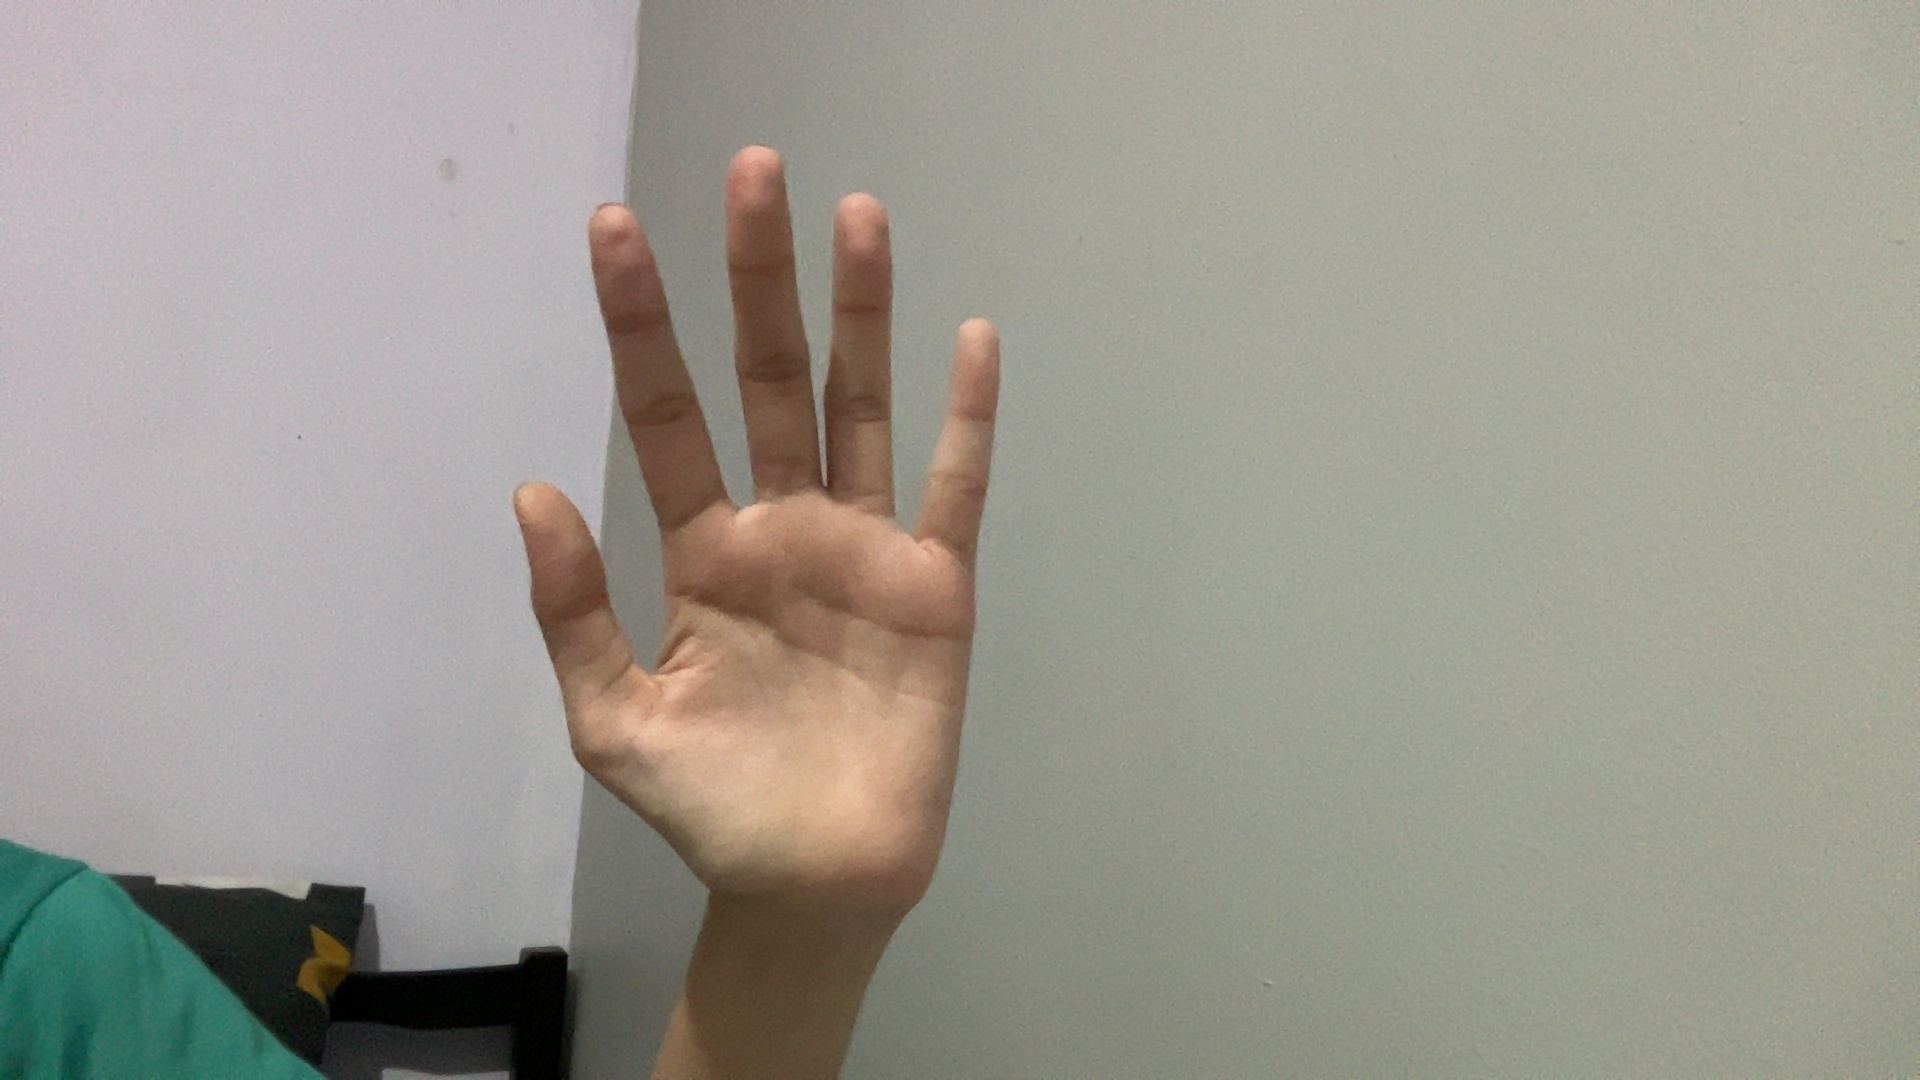Hello: (363, 105, 1156, 975)
